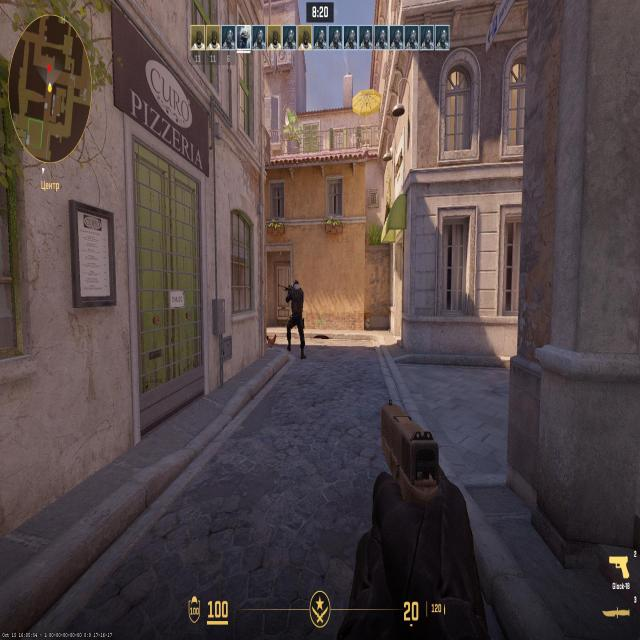CT: (288, 277, 305, 356)
CT_heat: (294, 279, 299, 291)
